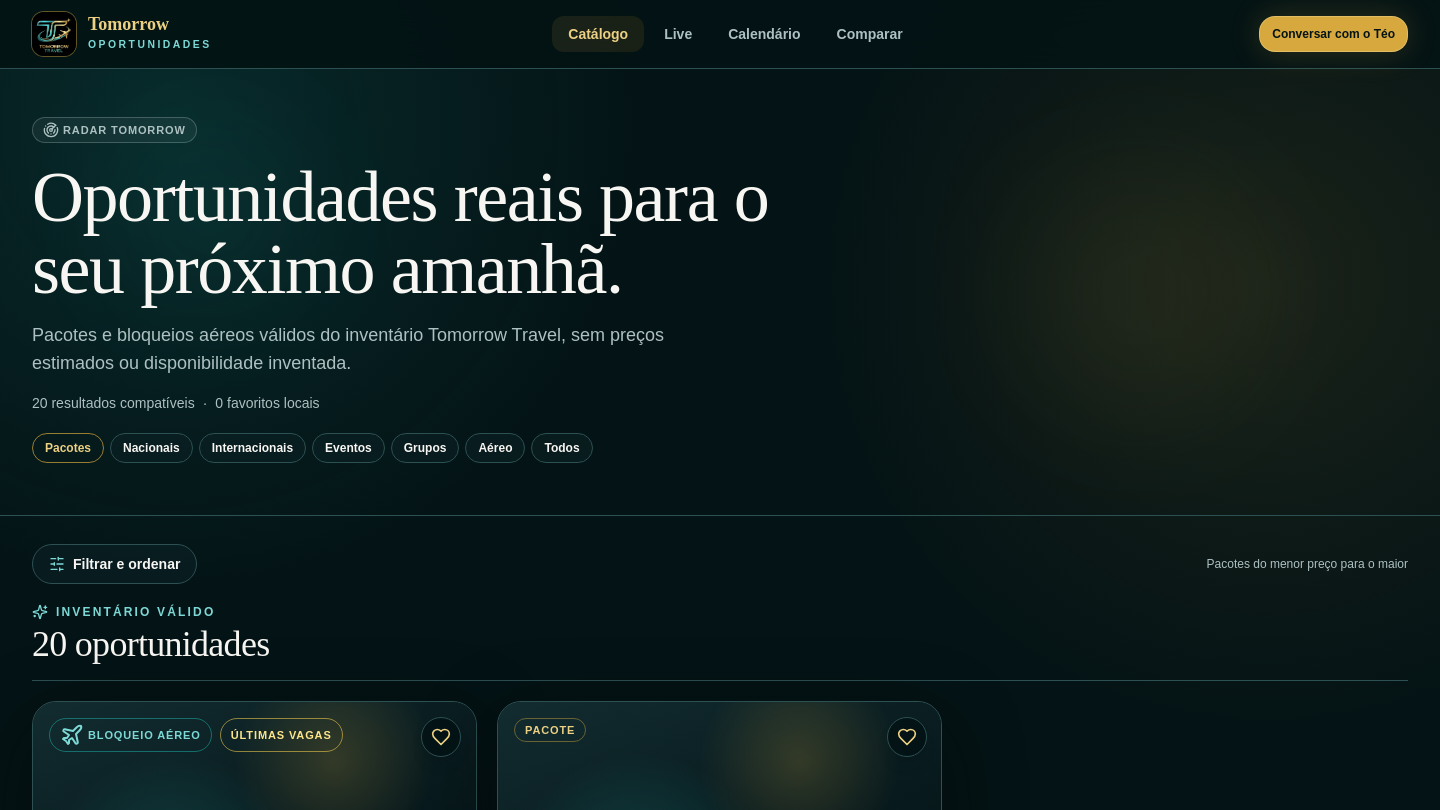
it: Catálogo de oportunidades › mantém filtros fora da tela até o usuário clicar no botão
Check: the field labelled "Buscar" is not shown
Click the button "Filtrar e ordenar".
click(115, 564)  # box [32,544,197,584]
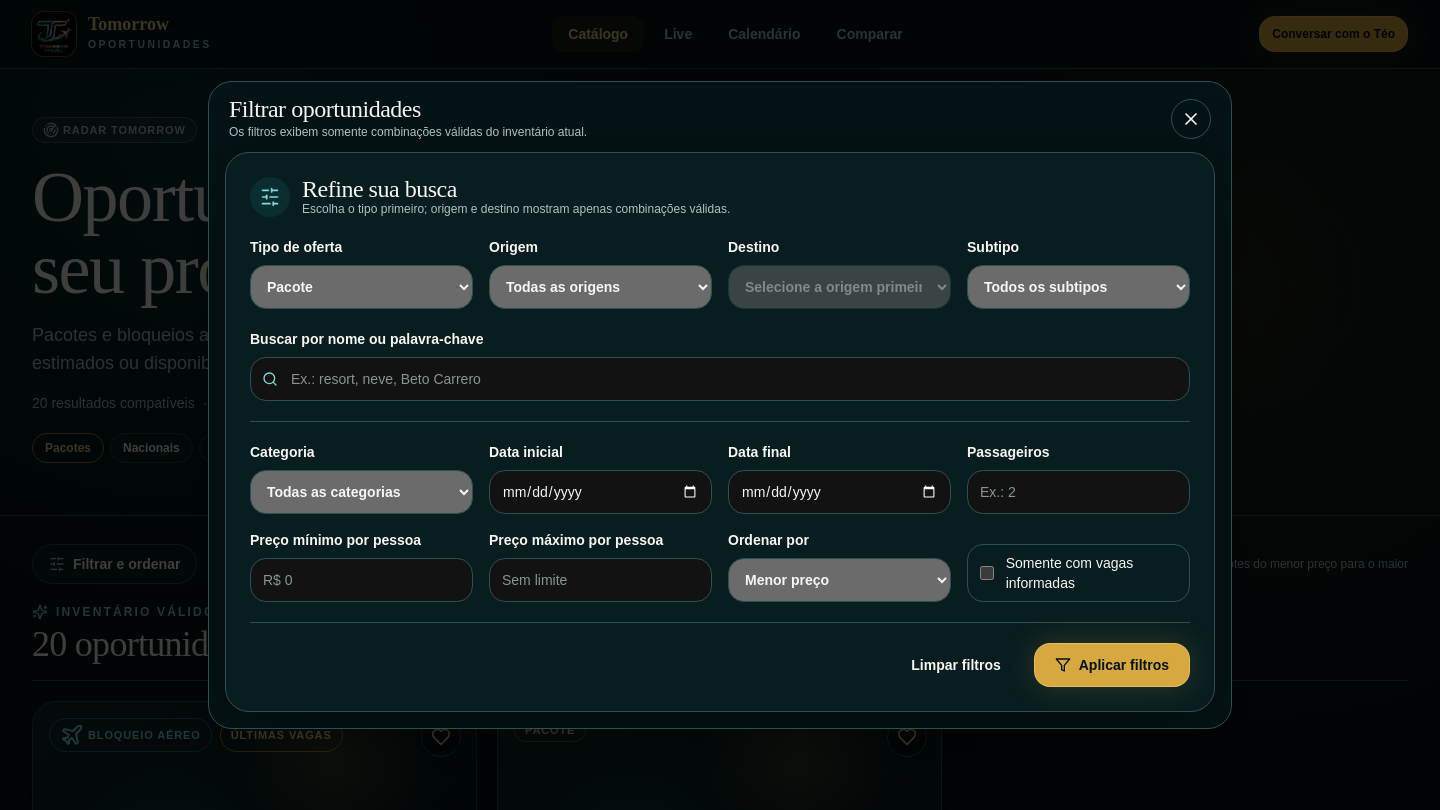
Check: the dialog "Filtrar oportunidades" is shown
Check: the field labelled "Buscar" is shown, box [250,357,1190,401]
